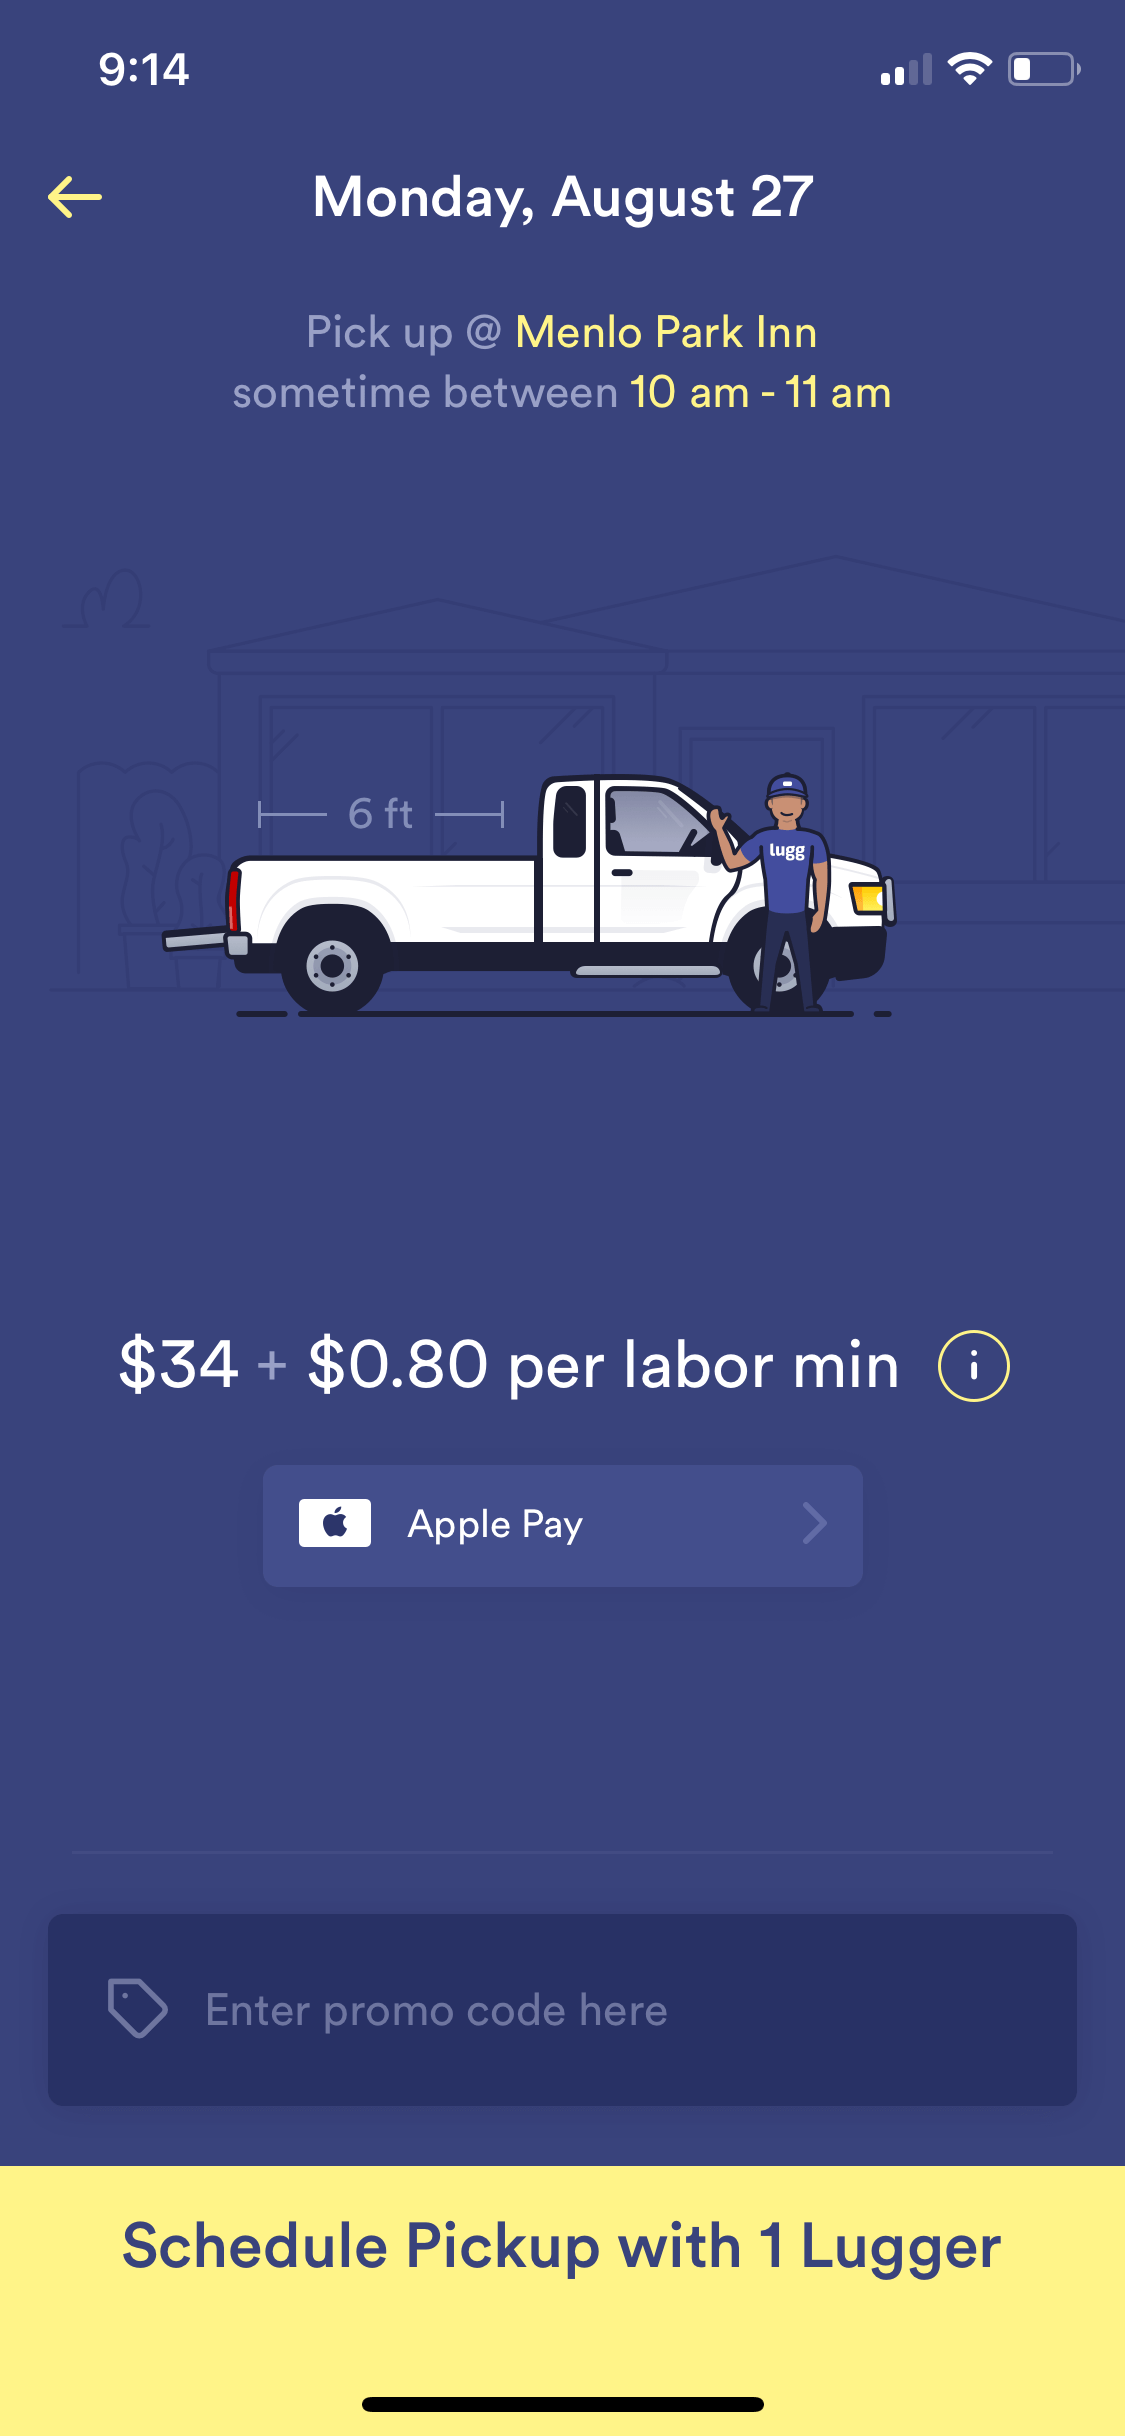Buttons: (2, 2150, 1125, 2340), (242, 1432, 890, 1613), (19, 134, 141, 238)
Text Fields: (39, 1886, 1094, 2133)
